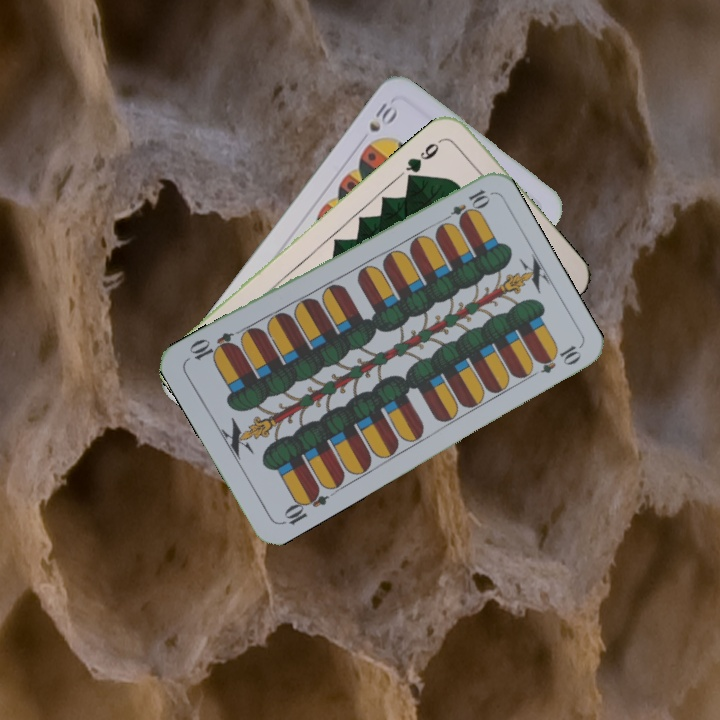E10: (277, 483, 331, 528), (437, 185, 492, 227)
G9: (401, 134, 448, 181)
S10: (364, 98, 400, 135)
